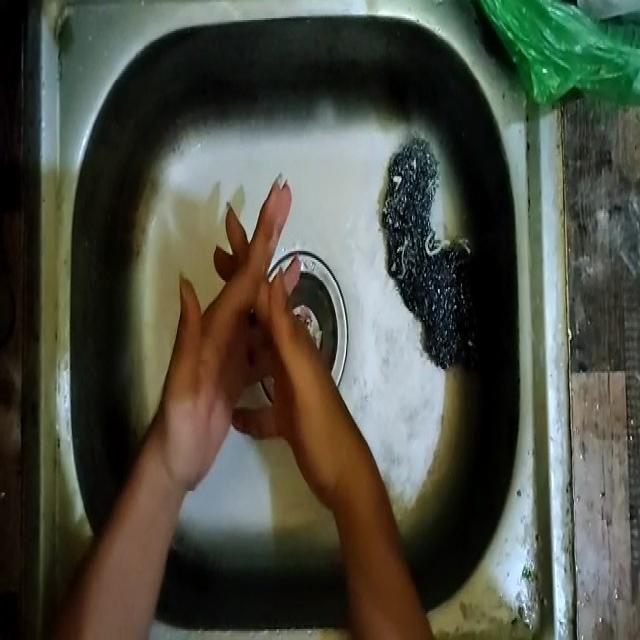step_3: (159, 165, 341, 478)
